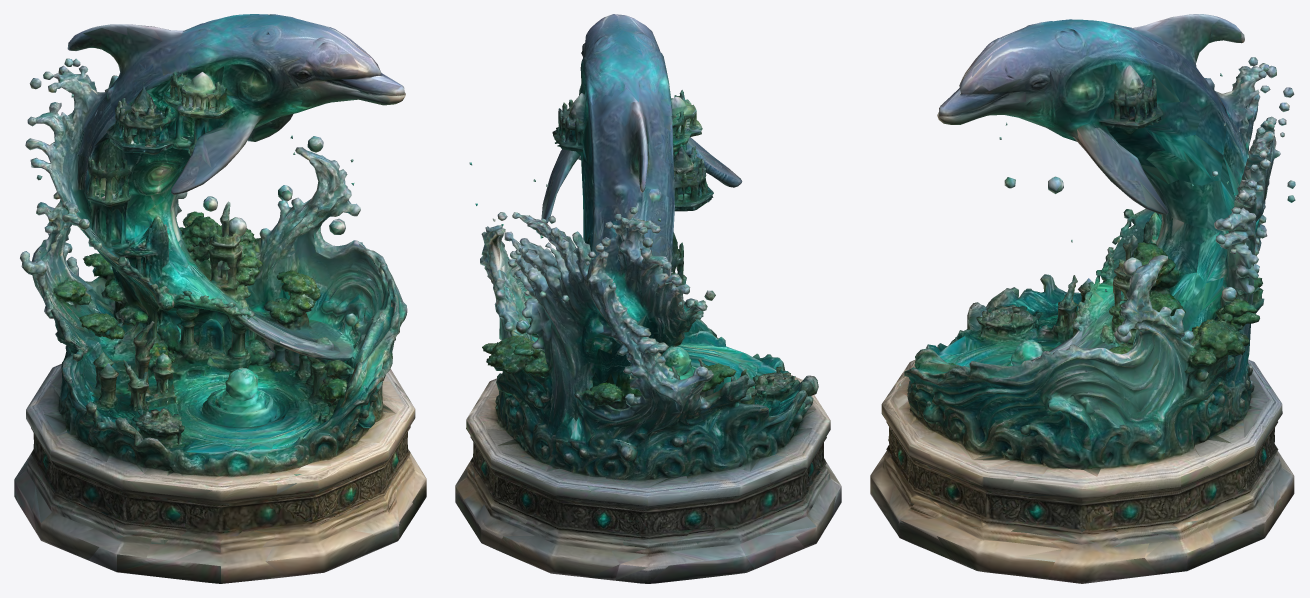
File: Emerald_Dolphin_and_t.glb
3 views of the same model, side by side, from view 1: azimuth 30°, elevation 25°; view 2: azimuth 150°, elevation 25°; view 3: azimuth 270°, elevation 25° (orthographic). The views are drawn at different scales.
Visible parts, largest first — view 1: Emerald_Dolphin_and_t; view 2: Emerald_Dolphin_and_t; view 3: Emerald_Dolphin_and_t.
Part boxes in pixels (left/top/right/bottom): Emerald_Dolphin_and_t: left=14, top=14, right=426, bottom=583; Emerald_Dolphin_and_t: left=455, top=14, right=841, bottom=583; Emerald_Dolphin_and_t: left=870, top=14, right=1295, bottom=583.
Size of the model in its own units: 1.49 by 1.9 by 1.5.
1 material, 1 textured.
